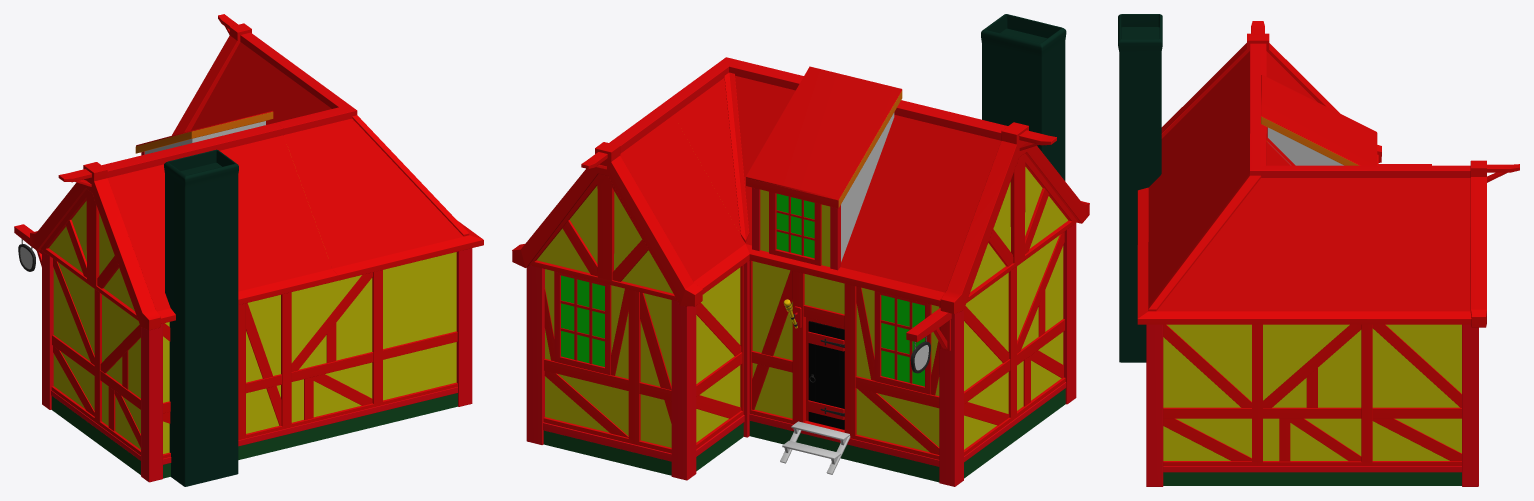
Rendered from medieval_house_lite_v2.fbx.
3 views of the same model, side by side, from view 1: azimuth 30°, elevation 25°; view 2: azimuth 150°, elevation 25°; view 3: azimuth 270°, elevation 25° (orthographic). The views are drawn at different scales.
Visible parts, largest first — view 1: chimney_outside_size1.001, roof_intersection_wide_1_2.001, roof_dolmer_wide2_1.002, wall_wood_2m_4.006, wall_wood_2m_1.009, roof_wide2_end.001, roof_wide2_3.001, wall_wood_1m_2.014, wall_wood_2m_2.008, wall_wood_2m_4.007, roof_wide1_3.002, wooden_post_column_size1.082 (+10 smaller); view 2: roof_dolmer_wide2_1.002, roof_wide2_3.001, roof_wide1_end.005, wall_wood_2m_window.005, wall_wood_2m_window.004, roof_wide2_end.001, roof_wide1_3.002, roof_intersection_wide_1_2.001, chimney_outside_size1.001, wall_wood_2m_4.007, wall_wood_2m_2.008, wall_wood_1m_2.015 (+17 smaller); view 3: roof_intersection_wide_1_2.001, roof_wide1_3.002, wall_wood_2m_4.005, wall_wood_2m_2.004, wall_wood_2m_2.006, roof_dolmer_wide2_1.002, chimney_outside_size1.001, roof_wide2_3.001, roof_wide1_end.005, wooden_post_column_size1.081, wooden_post_column_size1.080, roof_wide2_end.001 (+4 smaller).
Part boxes in pixels (left/top/right/bottom): chimney_outside_size1.001: left=164, top=149, right=238, bottom=486; roof_intersection_wide_1_2.001: left=266, top=69, right=483, bottom=280; roof_dolmer_wide2_1.002: left=135, top=110, right=337, bottom=302; wall_wood_2m_4.006: left=287, top=271, right=378, bottom=428; wall_wood_2m_1.009: left=378, top=252, right=457, bottom=405; roof_wide2_end.001: left=30, top=162, right=160, bottom=330; roof_wide2_3.001: left=102, top=145, right=246, bottom=323; wall_wood_1m_2.014: left=241, top=293, right=286, bottom=439; wall_wood_2m_2.008: left=51, top=258, right=96, bottom=422; wall_wood_2m_4.007: left=97, top=291, right=140, bottom=455; roof_wide1_3.002: left=191, top=32, right=299, bottom=130; wooden_post_column_size1.082: left=141, top=323, right=162, bottom=482; roof_dolmer_wide2_1.002: left=745, top=66, right=913, bottom=283; roof_wide2_3.001: left=843, top=103, right=1007, bottom=306; roof_wide1_end.005: left=512, top=142, right=702, bottom=306; wall_wood_2m_window.005: left=543, top=269, right=633, bottom=444; wall_wood_2m_window.004: left=850, top=285, right=939, bottom=459; roof_wide2_end.001: left=940, top=122, right=1089, bottom=313; roof_wide1_3.002: left=609, top=104, right=749, bottom=294; roof_intersection_wide_1_2.001: left=662, top=57, right=803, bottom=243; chimney_outside_size1.001: left=981, top=14, right=1066, bottom=180; wall_wood_2m_4.007: left=1014, top=231, right=1065, bottom=419; wall_wood_2m_2.008: left=964, top=269, right=1013, bottom=455; wall_wood_1m_2.015: left=749, top=260, right=797, bottom=424; roof_intersection_wide_1_2.001: left=1137, top=133, right=1367, bottom=324; roof_wide1_3.002: left=1367, top=165, right=1471, bottom=324; wall_wood_2m_4.005: left=1257, top=324, right=1366, bottom=465; wall_wood_2m_2.004: left=1367, top=324, right=1461, bottom=465; wall_wood_2m_2.006: left=1163, top=324, right=1257, bottom=465; roof_dolmer_wide2_1.002: left=1137, top=74, right=1377, bottom=244; chimney_outside_size1.001: left=1118, top=14, right=1162, bottom=362; roof_wide2_3.001: left=1137, top=43, right=1378, bottom=198; roof_wide1_end.005: left=1470, top=160, right=1519, bottom=327; wooden_post_column_size1.081: left=1146, top=324, right=1163, bottom=486; wooden_post_column_size1.080: left=1462, top=324, right=1478, bottom=486; roof_wide2_end.001: left=1161, top=21, right=1381, bottom=162.
Bounding box in the file's own units: 8.02 × 7.34 × 6.51.
